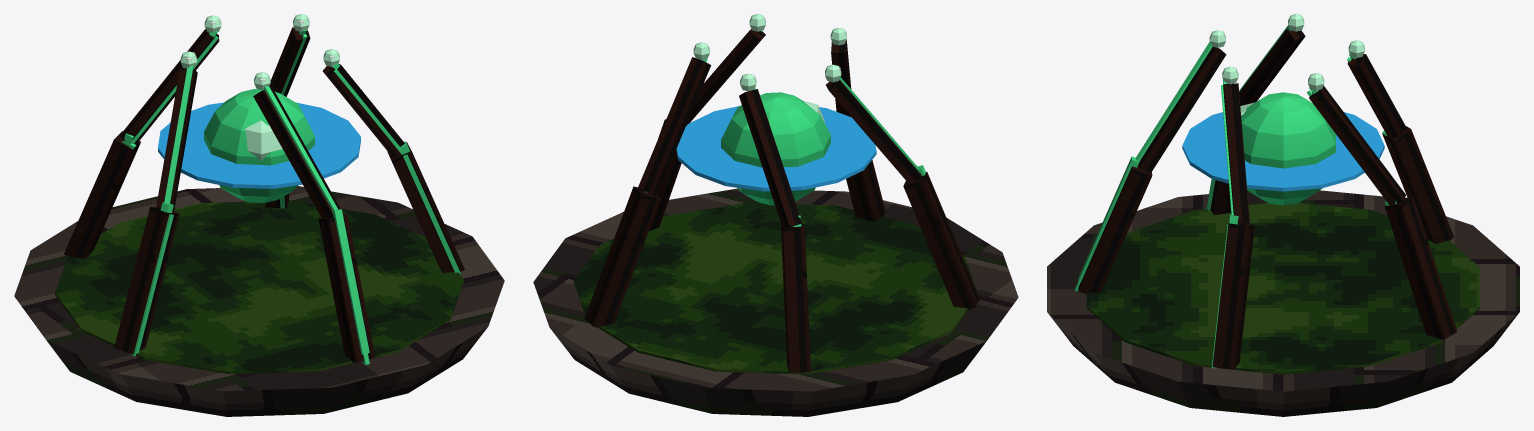
File: heartseed_cradle.glb
3 renders of one model, left to right at view 1: azimuth 30°, elevation 25°; view 2: azimuth 150°, elevation 25°; view 3: azimuth 270°, elevation 25°, orthographic.
Visible parts, largest first — view 1: heartseed_cradle; view 2: heartseed_cradle; view 3: heartseed_cradle.
Boxes of the visible parts, box(x1,y1,x2,y2) form: heartseed_cradle: box(14, 14, 504, 416); heartseed_cradle: box(533, 14, 1018, 416); heartseed_cradle: box(1047, 14, 1519, 416).
Size of the model in its own units: 3.6 by 2.3 by 3.51.
Materials: 4 (3 with a texture image).
